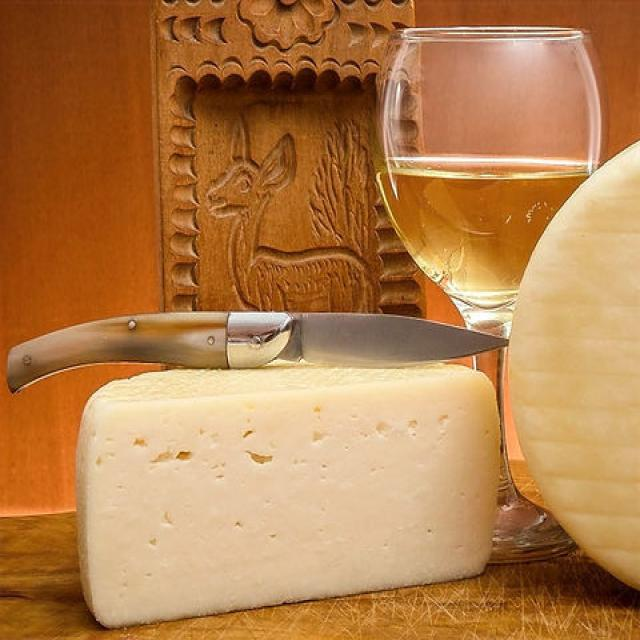Cheese: (80, 364, 505, 628), (520, 130, 640, 559)
